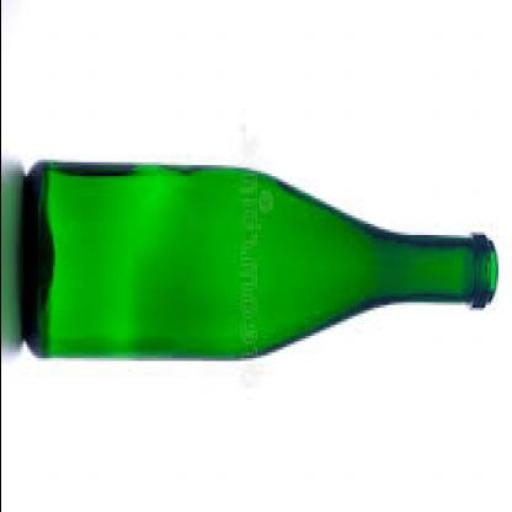glass: (17, 165, 499, 364)
